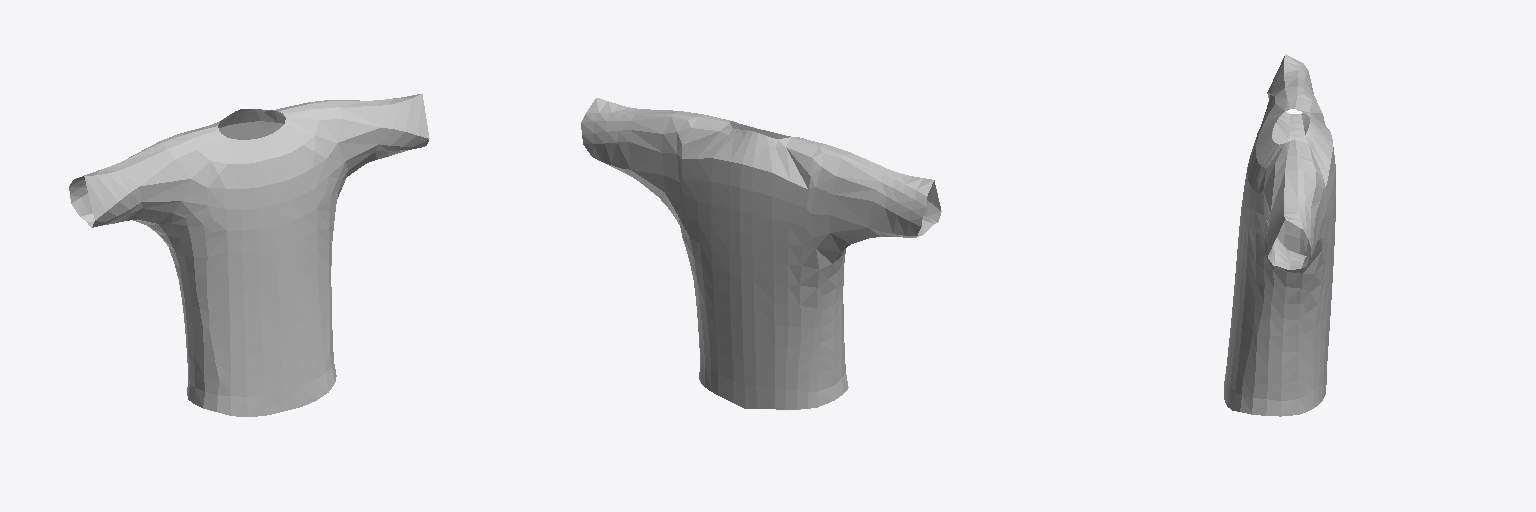
Rendered from tshirt_2.obj.
3 renders of one model, left to right at view 1: azimuth 30°, elevation 25°; view 2: azimuth 150°, elevation 25°; view 3: azimuth 270°, elevation 25°, orthographic.
Visible parts, largest first — view 1: tshirt_2.003; view 2: tshirt_2.003; view 3: tshirt_2.003.
Boxes of the visible parts, <box> form: tshirt_2.003: <box>69,94,429,416</box>; tshirt_2.003: <box>581,98,941,409</box>; tshirt_2.003: <box>1224,54,1335,416</box>.
Size of the model in its own units: 1.57 by 1.17 by 0.4406.